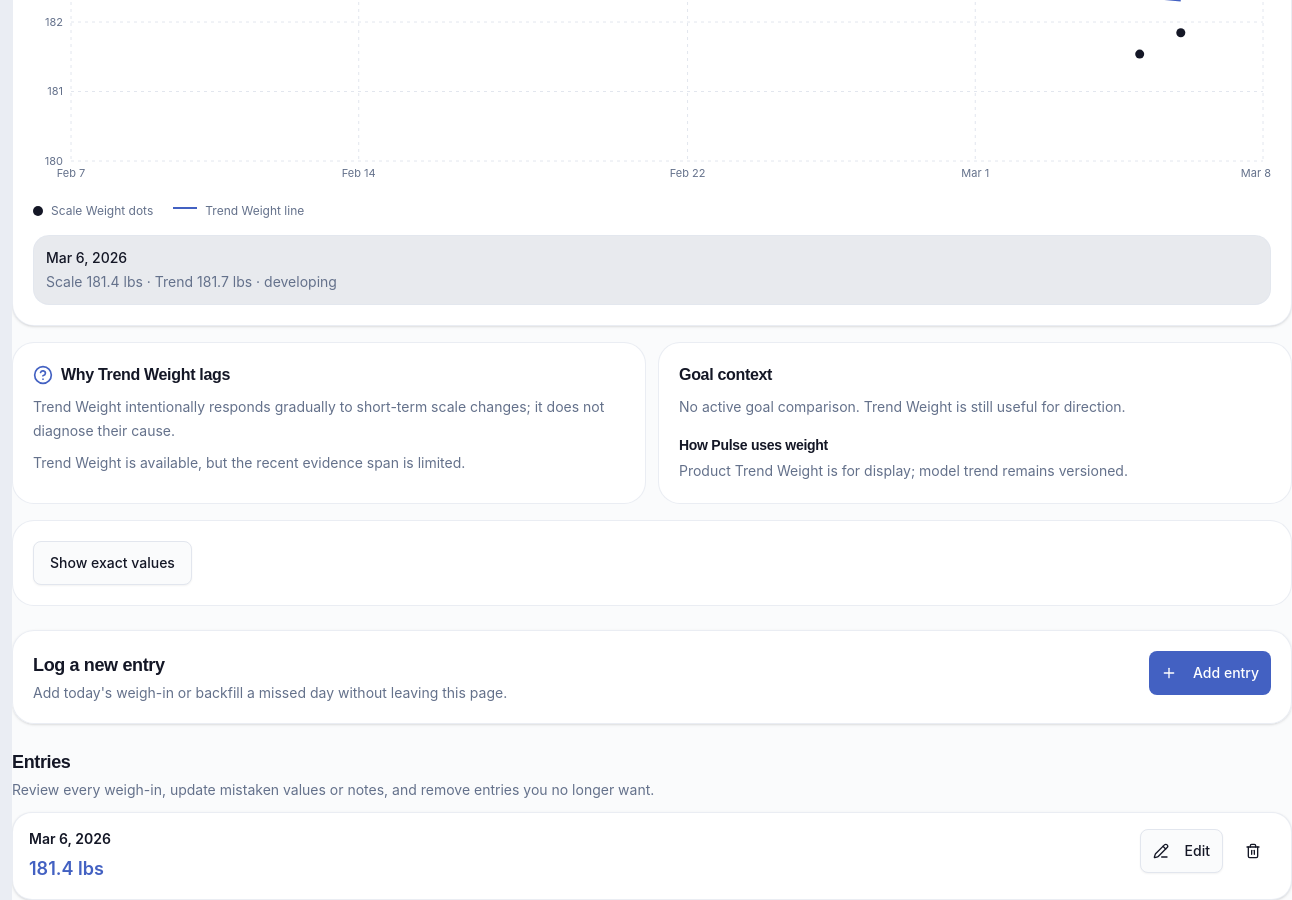
Test: WeightHistoryPage › supports editing a weight value and note inline
(page scrolled)
Check: the text "181.4 lbs" is shown, box [29,858,104,879]
Click the button "Edit": (1181, 851) [1140,829,1223,873]
(page scrolled)
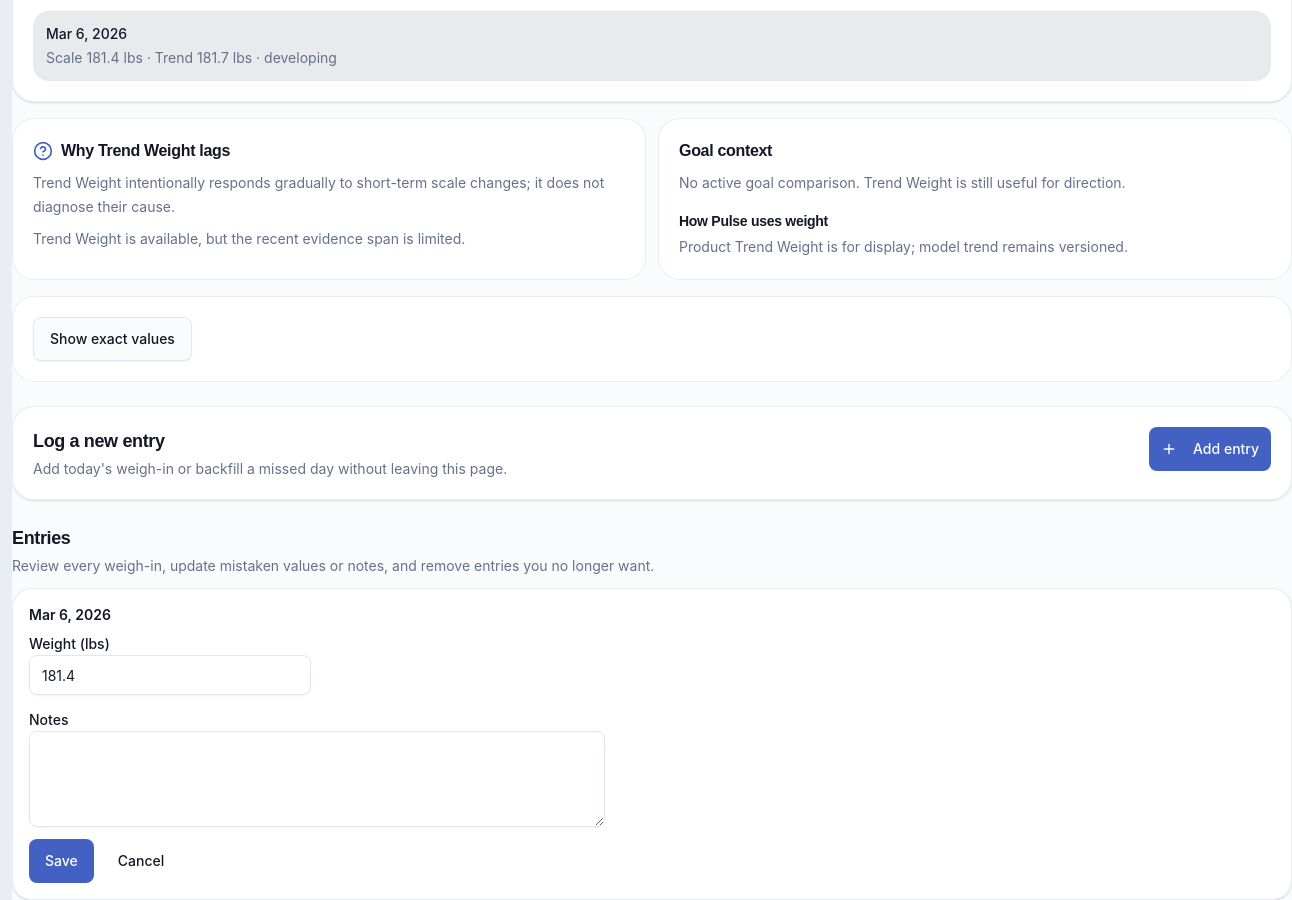
In the number field named "Weight value for Mar 6, 2026 (lbs)": (170, 675) [29,655,311,695], type "180.2"
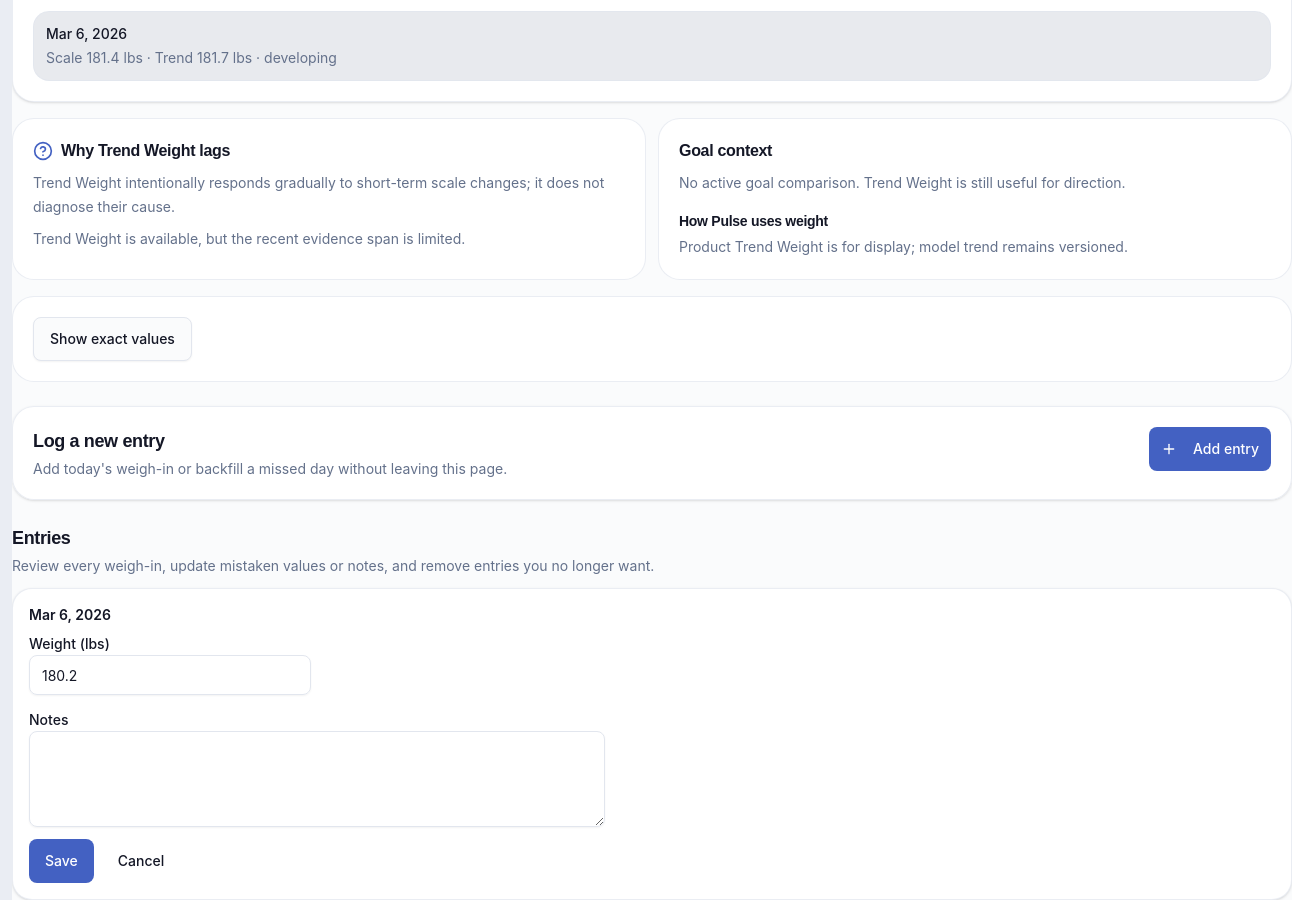
In the text box named "Notes for Mar 6, 2026": (317, 779) [29,731,605,827], type "Adjusted after retest"
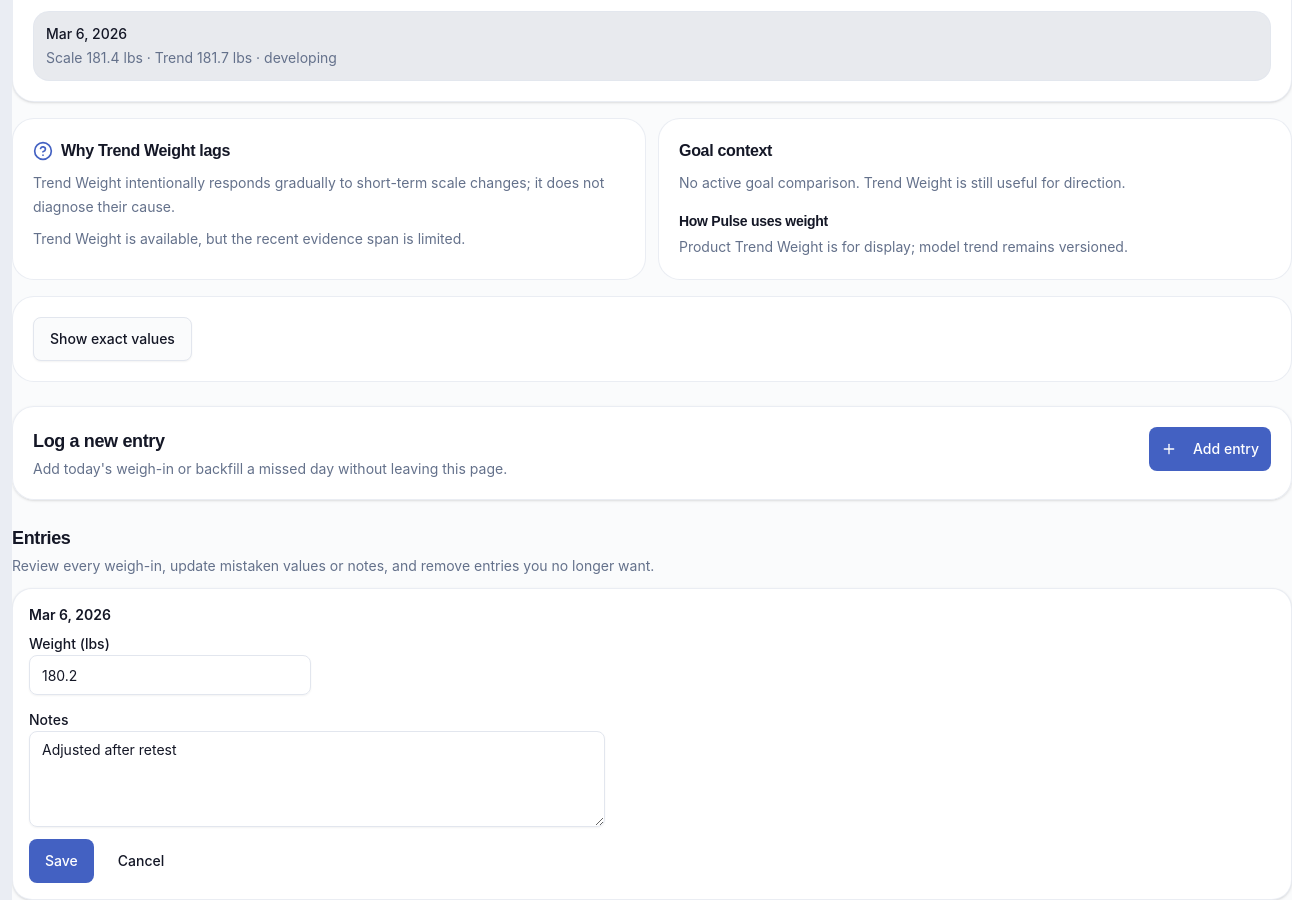
Click the button "Save": (61, 861) [29,839,94,883]
(page scrolled)
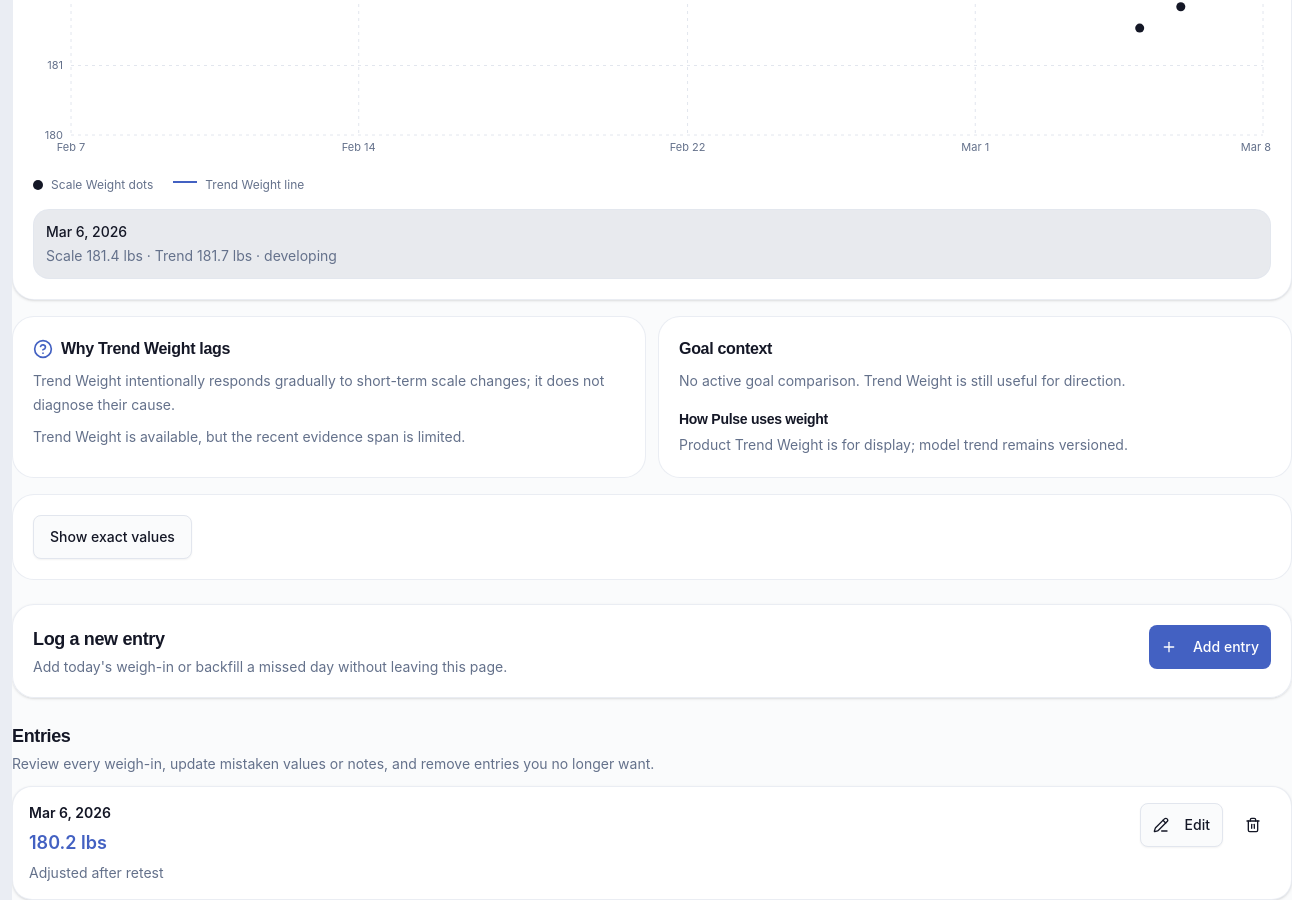
Check: the text "180.2 lbs" is shown, box [29,832,107,853]
Check: the text "Adjusted after retest" is shown, box [29,864,164,881]
